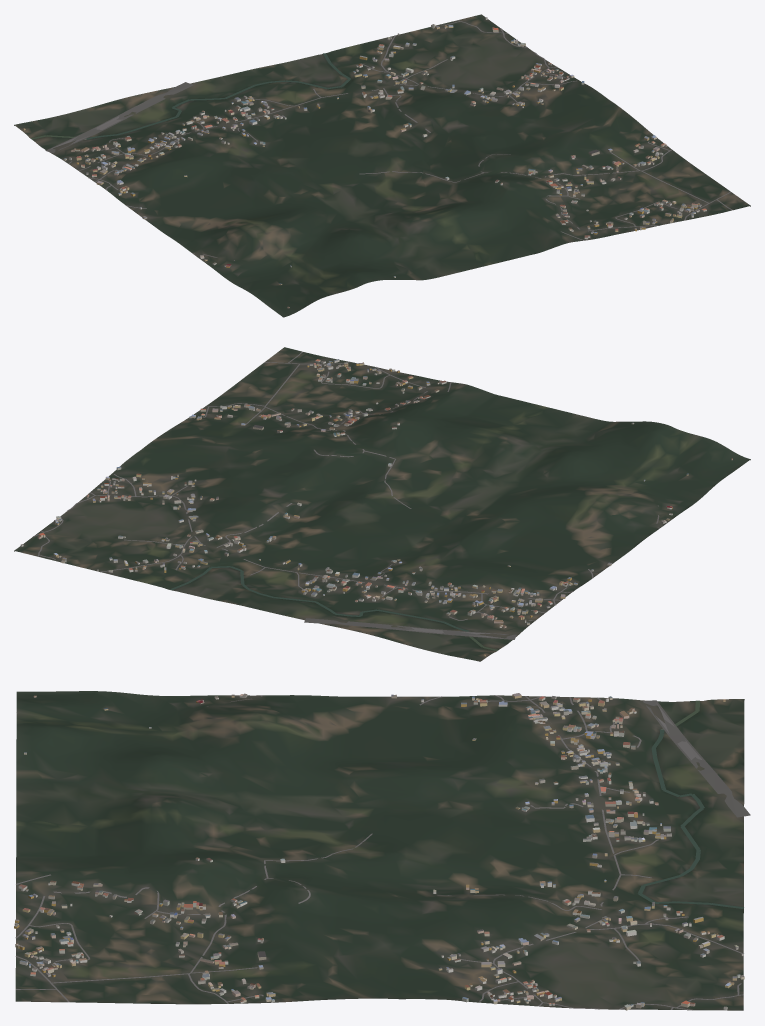
3 views of the same model, one above another, from view 1: azimuth 30°, elevation 25°; view 2: azimuth 150°, elevation 25°; view 3: azimuth 270°, elevation 25° (orthographic). The views are drawn at different scales.
Parts seen in each view (by area): view 1: ground, buildings, roads, water; view 2: ground, buildings, roads, water; view 3: ground, buildings, roads, water.
Boxes of the visible parts, x1,y1,x2,y2 form: ground: (14,14,750,317); buildings: (23,17,706,308); roads: (45,20,732,293); water: (31,53,350,139); ground: (14,347,750,661); buildings: (20,359,732,656); roads: (33,351,696,639); water: (170,566,497,650); ground: (15,691,744,1010); buildings: (14,693,744,1010); roads: (15,695,750,1010); water: (638,700,743,908).
Bounding box in the file's own units: 1408 × 74.6 × 1420.
